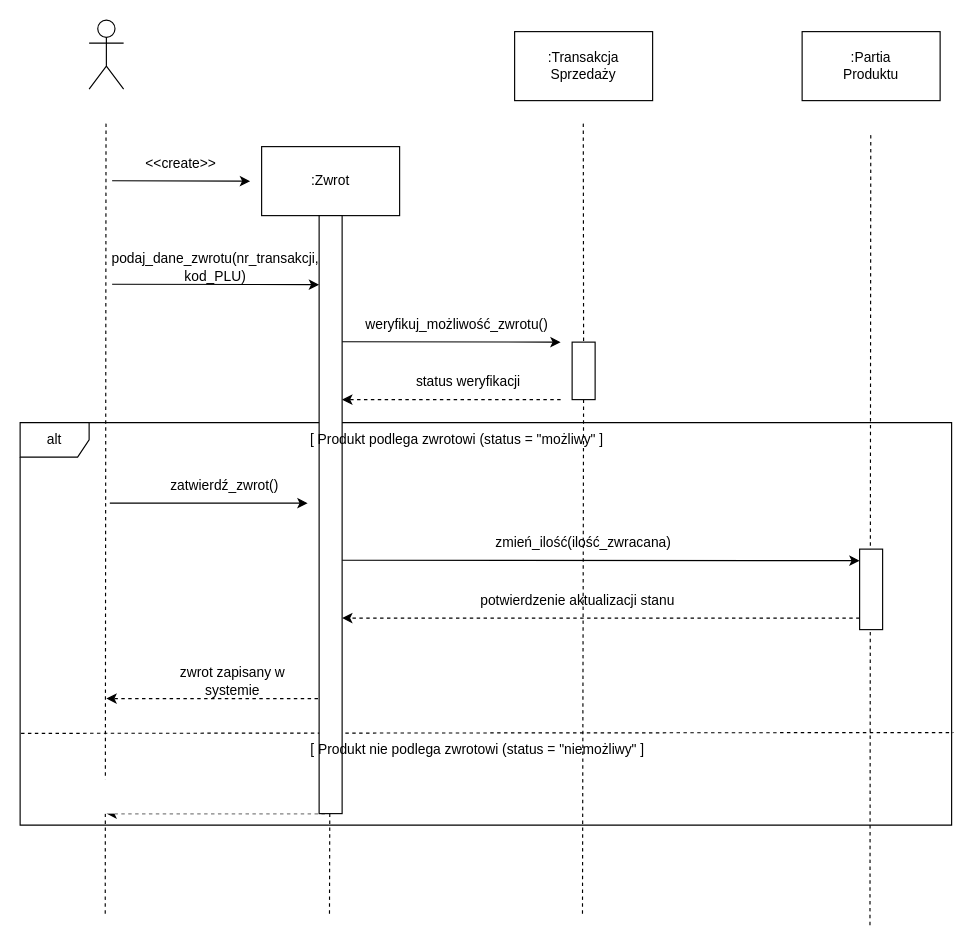
Image size: 975x950. Some labels were removed from this diagram. Here are the shapes that lost their labels. From the top down, the box of each, then its label:
(88, 19, 124, 89): Kierownik działu sprzedaży
(103, 779, 327, 813): komunikat o braku możliwości zwrotu
